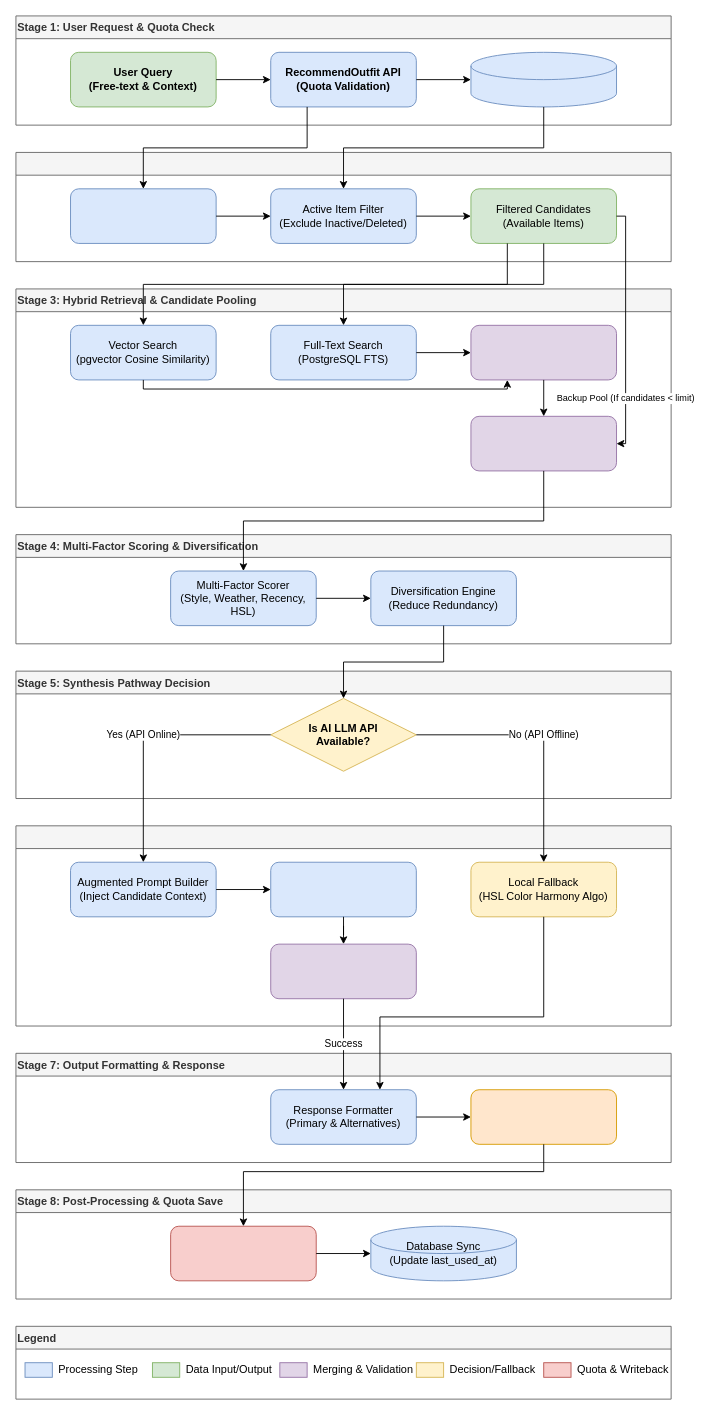
Image size: 710x1415. Some labels were removed from this diagram. The box of each missing label's shape, as (x1, y1, x2, y2) in pixels:
Digital Wardrobe (GORM Database): (470, 51, 617, 107)
Ensure Minimum Pool (Pad with Active Items): (470, 415, 617, 471)
Hallucination Guard (Validate IDs against DB): (270, 943, 416, 999)
LLM Generation (Structured JSON Output): (270, 861, 416, 917)
NLP Intent Parser (Extract Occasion/Style): (70, 188, 216, 243)
Outfit Recommendation DTO (title, explanation, items): (470, 1089, 617, 1144)
Quota Executor (Deduct AI Quota): (170, 1225, 316, 1281)
Reciprocal Rank Fusion (RRF Merging): (470, 324, 617, 380)
Stage 2: Intent Parsing & Active Pre-Filtering: (15, 152, 671, 262)
Stage 6: Synthesis & Hallucination Guard / Fallback: (15, 825, 671, 1026)
